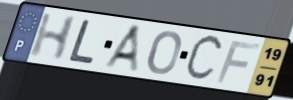A: (101, 23, 144, 76)
C: (182, 33, 226, 84)
F: (214, 39, 264, 85)
H: (26, 11, 80, 62)
L: (66, 18, 96, 67)
O: (145, 30, 183, 77)
